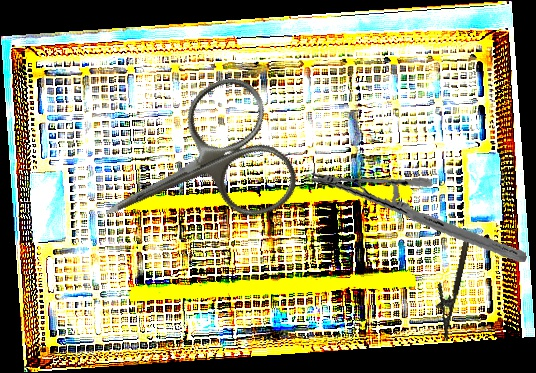Iris Scissors: (75, 68, 307, 275)
Needle Holder: (309, 144, 528, 290), (426, 232, 472, 342)
